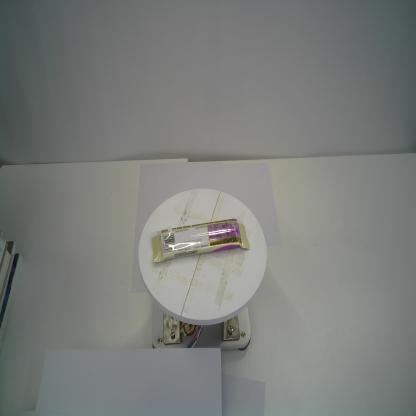Chocolate: (146, 217, 250, 265)
